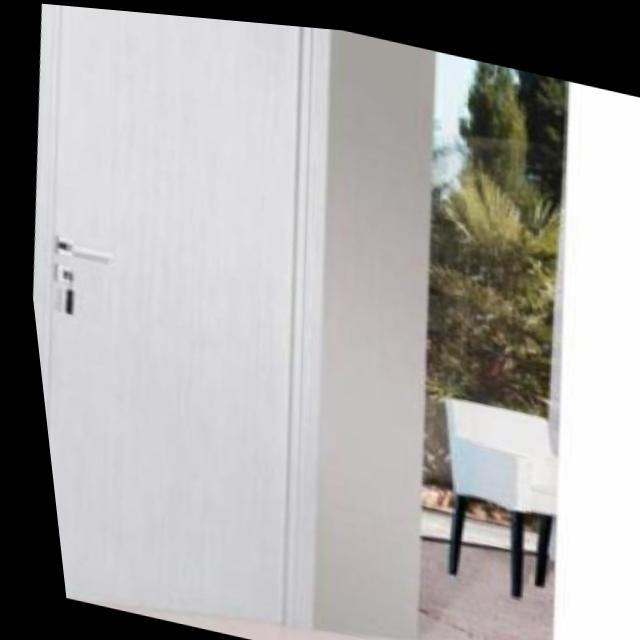door_handle: (49, 231, 117, 270)
